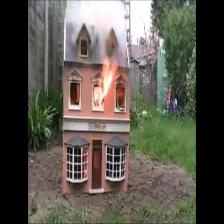fire: (97, 60, 117, 107)
